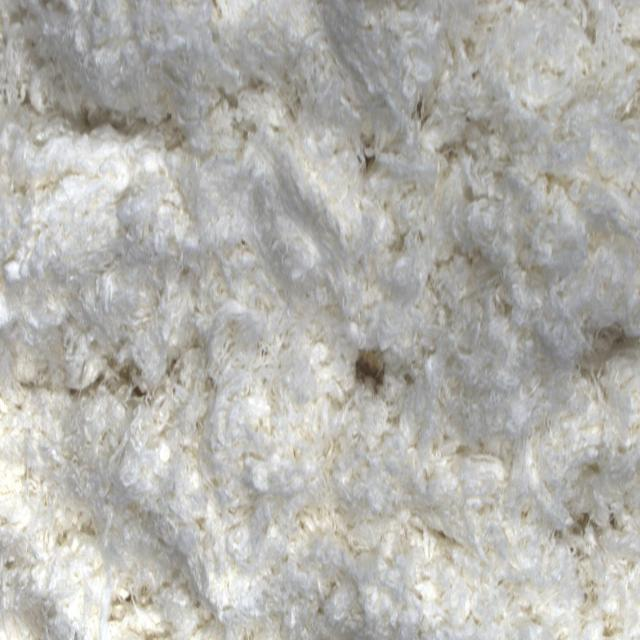dust: (356, 343, 384, 389)
